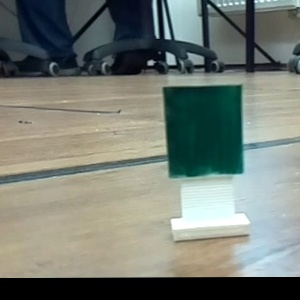rect: (149, 77, 258, 247)
